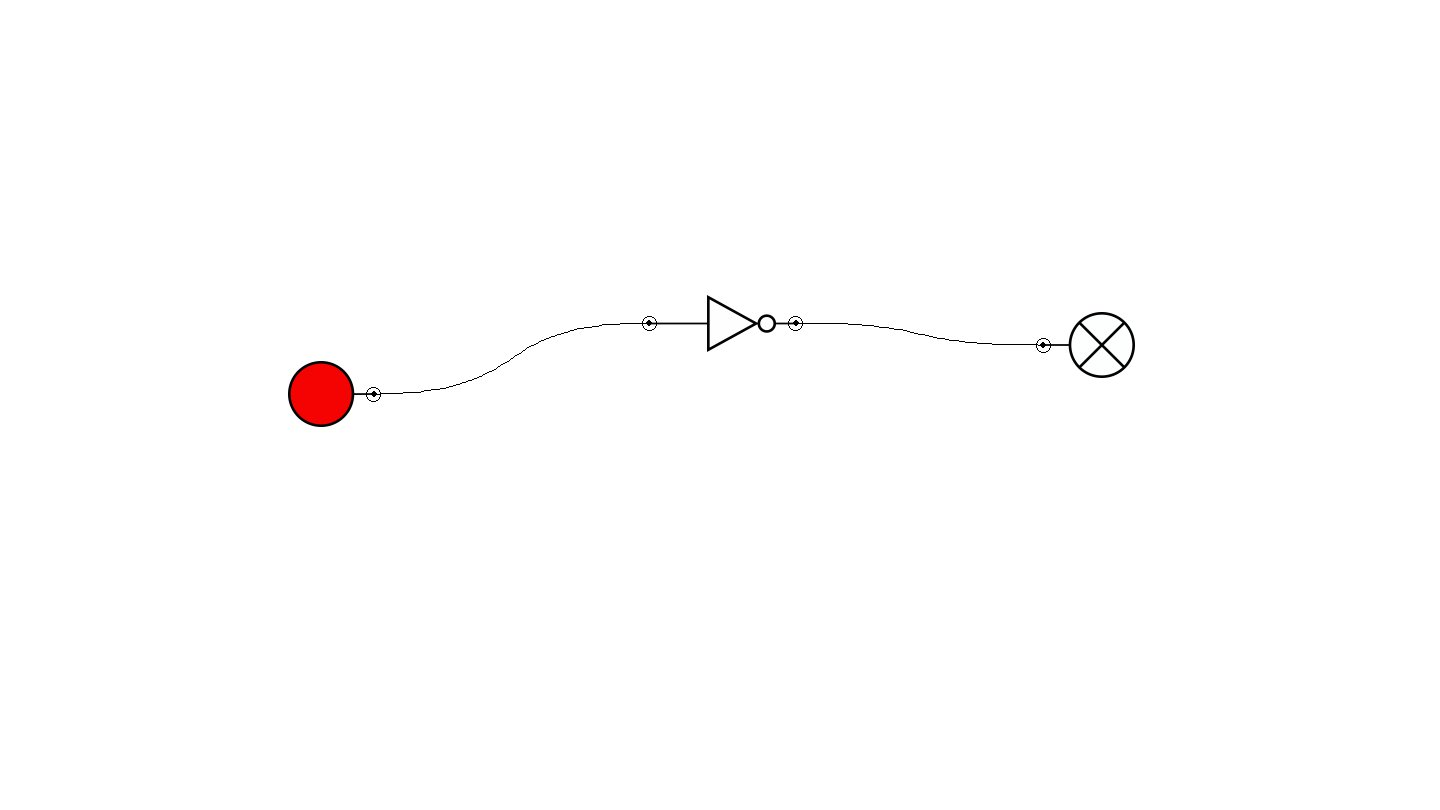bulb: (1036, 312, 1135, 378)
not: (642, 295, 803, 352)
switch_False: (288, 361, 381, 427)
